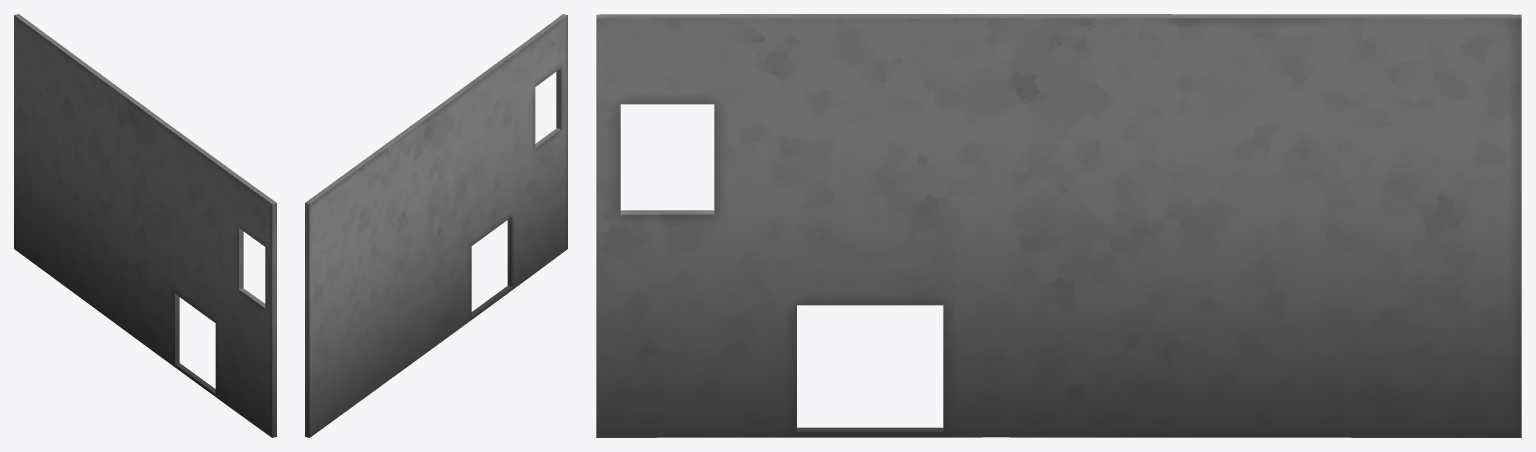
File: Factory_EnteringWall.fbx
3 renders of one model, left to right at view 1: azimuth 30°, elevation 25°; view 2: azimuth 150°, elevation 25°; view 3: azimuth 270°, elevation 25°, orthographic. The views are drawn at different scales.
Visible parts, largest first — view 1: Plane.024; view 2: Plane.024; view 3: Plane.024.
Part boxes in pixels (bbox=[...]): Plane.024: bbox=[14, 14, 276, 437]; Plane.024: bbox=[305, 14, 567, 437]; Plane.024: bbox=[596, 14, 1521, 437].
Size of the model in its own units: 23.8 by 1000 by 2000.
1 material, 1 textured.
